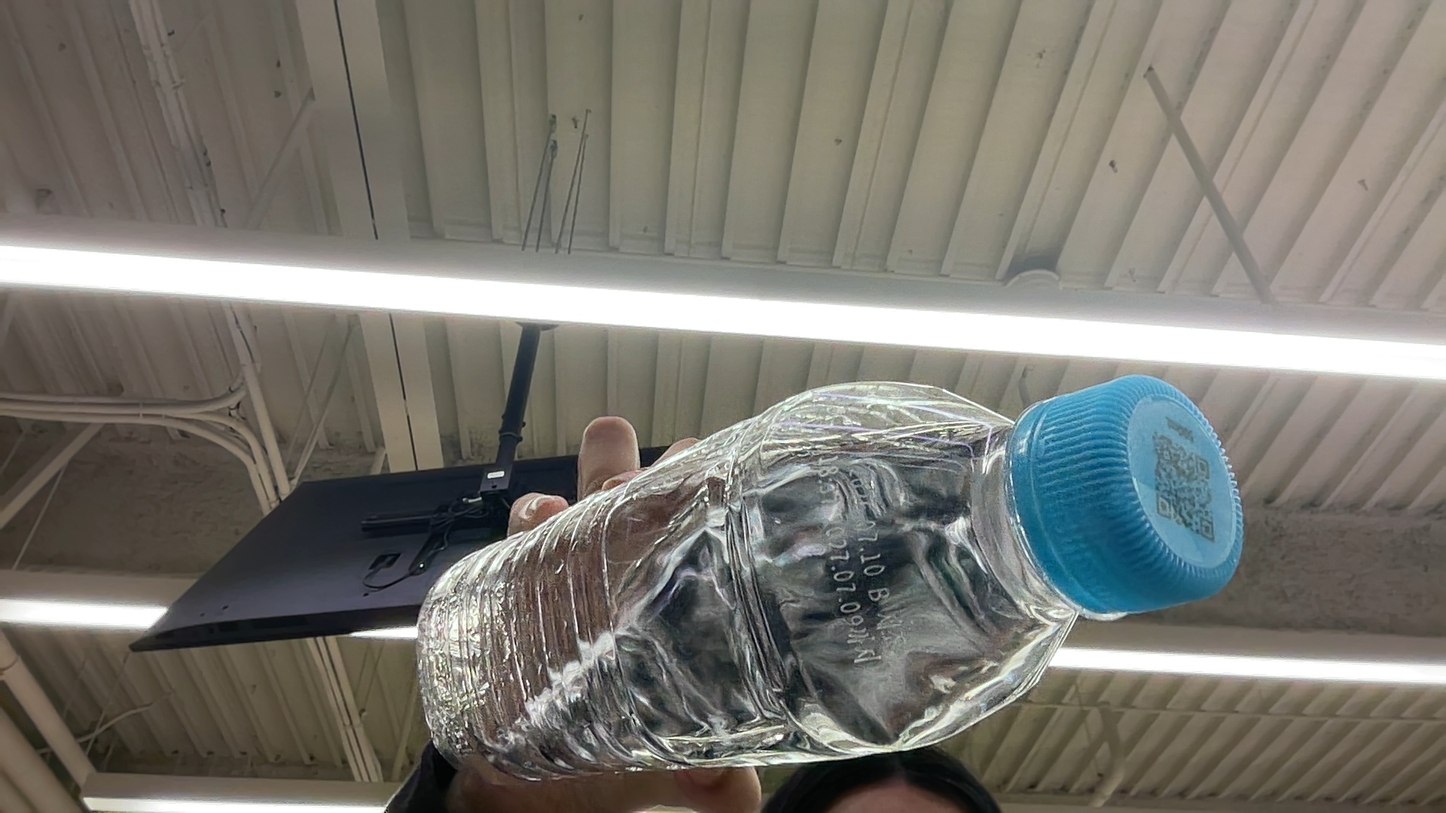Plastic: (998, 379, 1242, 615)
